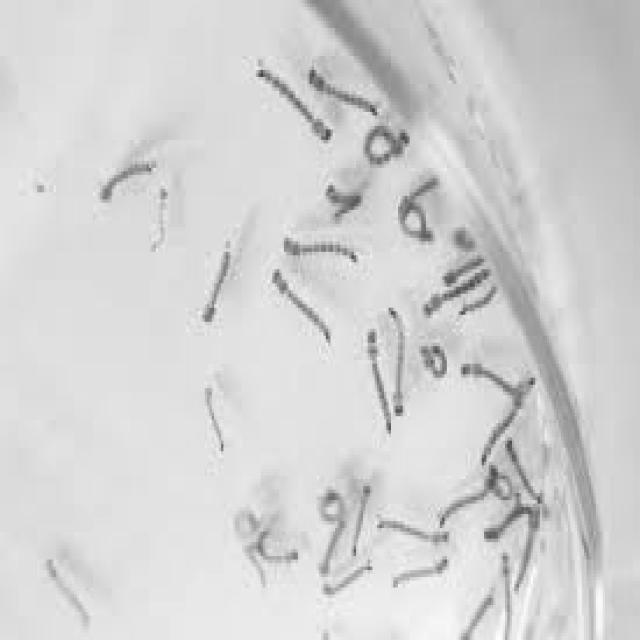larvas: (258, 66, 332, 141), (480, 369, 536, 462), (270, 270, 332, 342), (310, 66, 379, 112), (424, 269, 489, 313), (506, 436, 544, 504), (367, 330, 392, 432), (459, 360, 524, 399), (101, 159, 155, 203), (47, 564, 90, 619), (284, 235, 358, 265), (205, 246, 233, 321), (388, 307, 407, 413), (377, 520, 450, 546), (364, 122, 410, 163), (393, 560, 450, 592), (518, 504, 540, 586), (399, 173, 441, 214), (464, 589, 497, 640), (323, 564, 375, 596), (441, 488, 485, 525), (484, 507, 533, 539), (351, 488, 373, 558), (462, 274, 496, 318), (321, 519, 347, 571), (206, 387, 226, 454), (328, 181, 364, 217), (400, 207, 435, 244), (444, 252, 483, 284), (486, 462, 513, 499), (264, 533, 298, 562), (235, 510, 261, 546), (503, 556, 514, 640), (421, 343, 447, 378), (244, 548, 268, 584), (154, 185, 167, 250), (320, 490, 344, 522)
